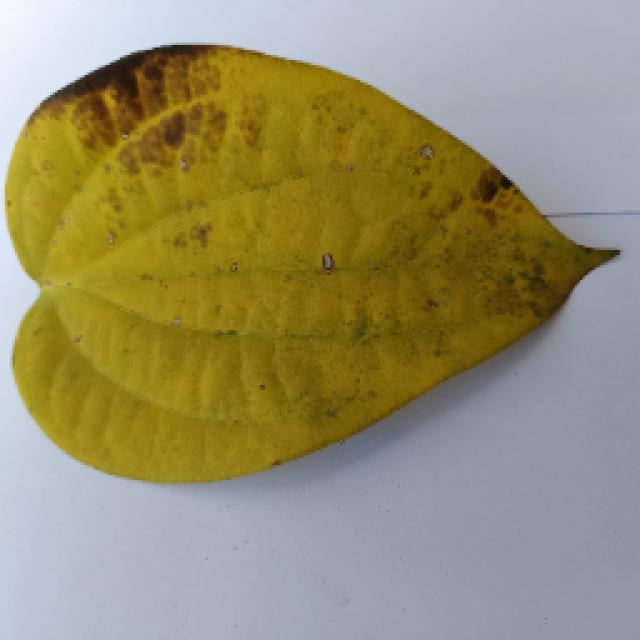slow-decline: (2, 42, 620, 482)
